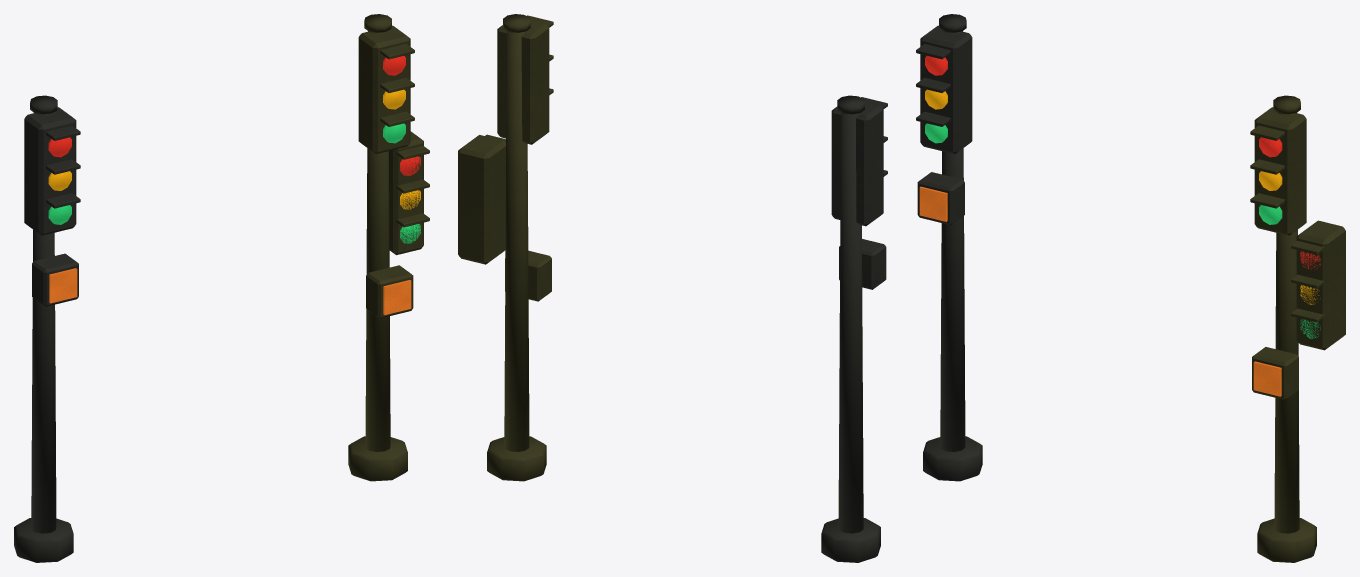
File: traffic_light_pole.glb
3 renders of one model, left to right at view 1: azimuth 30°, elevation 25°; view 2: azimuth 150°, elevation 25°; view 3: azimuth 330°, elevation 25°, orthographic.
Visible parts, largest first — view 1: traffic_light_pole_v2, traffic_light_pole_v1; view 2: traffic_light_pole_v2, traffic_light_pole_v1; view 3: traffic_light_pole_v2, traffic_light_pole_v1.
Boxes of the visible parts, left/top/right/bottom form: traffic_light_pole_v2: left=348, top=14, right=429, bottom=481; traffic_light_pole_v1: left=14, top=95, right=80, bottom=562; traffic_light_pole_v2: left=458, top=14, right=553, bottom=481; traffic_light_pole_v1: left=821, top=95, right=887, bottom=562; traffic_light_pole_v2: left=1250, top=95, right=1345, bottom=562; traffic_light_pole_v1: left=916, top=14, right=982, bottom=481.
Size of the model in its own units: 3.63 by 3.86 by 0.64.
2 materials, 2 textured.
